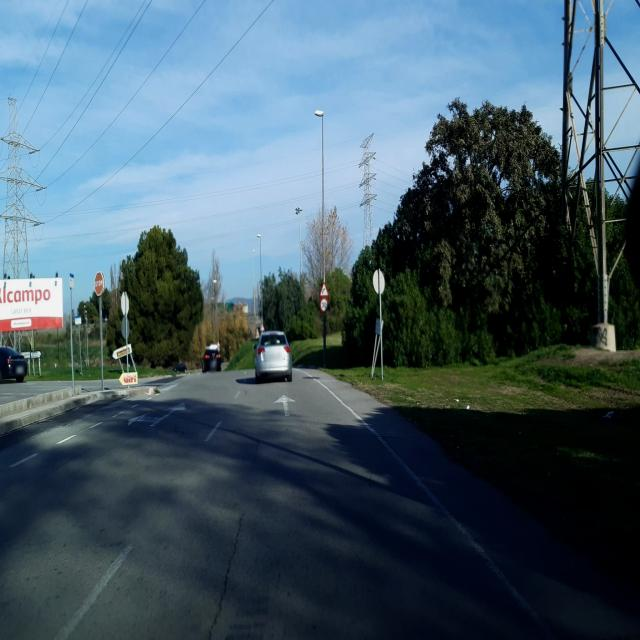car: (254, 330, 293, 382), (0, 344, 28, 384), (202, 344, 222, 372)
